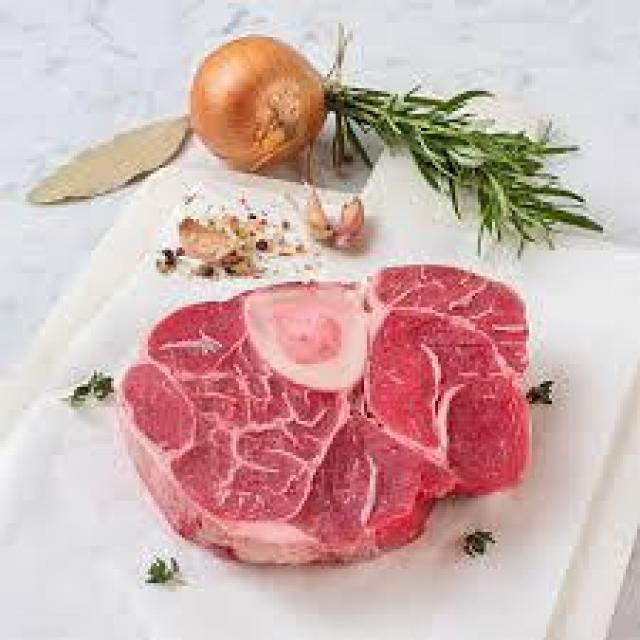beef: (141, 295, 541, 530)
